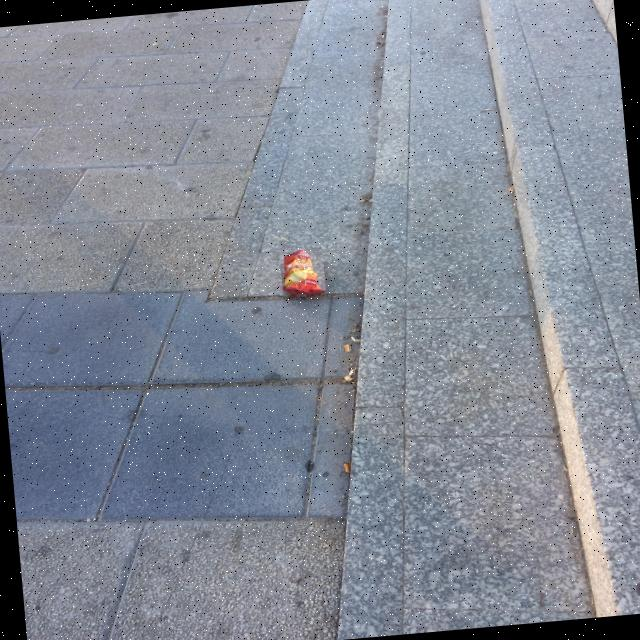Cigarette: (344, 462, 350, 471), (344, 343, 350, 352), (349, 367, 354, 374), (484, 108, 491, 110), (376, 43, 380, 45), (509, 187, 511, 191), (382, 35, 384, 37), (153, 44, 155, 45)
Crisp packet: (283, 249, 325, 296)
